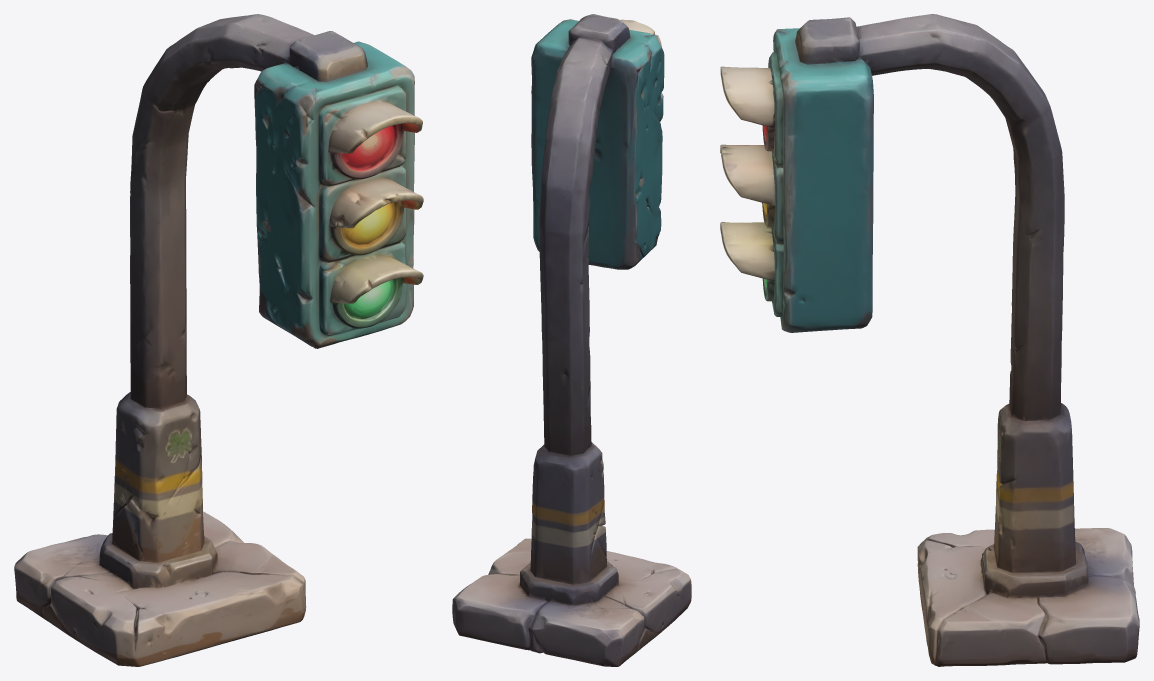
File: traffic_light.glb
The picture shows the model from 3 angles, left to right: view 1: azimuth 30°, elevation 25°; view 2: azimuth 150°, elevation 25°; view 3: azimuth 270°, elevation 25°; orthographic projection. The views are drawn at different scales.
Visible parts, largest first — view 1: tripo_part_1, tripo_part_3, tripo_part_0, tripo_part_2, tripo_part_5, tripo_part_4, tripo_part_8, tripo_part_6, tripo_part_7; view 2: tripo_part_3, tripo_part_1, tripo_part_0, tripo_part_2, tripo_part_8; view 3: tripo_part_1, tripo_part_3, tripo_part_0, tripo_part_2, tripo_part_5, tripo_part_8, tripo_part_4, tripo_part_6.
Boxes of the visible parts, x1=… form: tripo_part_1: x1=254, y1=41, x2=414, y2=348; tripo_part_3: x1=130, y1=14, x2=313, y2=408; tripo_part_0: x1=14, y1=511, x2=306, y2=666; tripo_part_2: x1=98, y1=392, x2=218, y2=588; tripo_part_5: x1=328, y1=101, x2=422, y2=179; tripo_part_4: x1=330, y1=255, x2=423, y2=328; tripo_part_8: x1=285, y1=31, x2=367, y2=81; tripo_part_6: x1=329, y1=178, x2=423, y2=229; tripo_part_7: x1=330, y1=201, x2=403, y2=257; tripo_part_3: x1=539, y1=37, x2=613, y2=455; tripo_part_1: x1=531, y1=19, x2=664, y2=269; tripo_part_0: x1=452, y1=538, x2=691, y2=666; tripo_part_2: x1=516, y1=442, x2=618, y2=607; tripo_part_8: x1=568, y1=14, x2=630, y2=53; tripo_part_1: x1=762, y1=28, x2=873, y2=332; tripo_part_3: x1=858, y1=14, x2=1064, y2=420; tripo_part_0: x1=917, y1=528, x2=1139, y2=666; tripo_part_2: x1=980, y1=403, x2=1095, y2=600; tripo_part_5: x1=720, y1=66, x2=774, y2=153; tripo_part_8: x1=795, y1=17, x2=864, y2=64; tripo_part_4: x1=720, y1=222, x2=775, y2=301; tripo_part_6: x1=720, y1=144, x2=775, y2=205.
Bounding box in the file's own units: 0.3939 × 0.9812 × 0.5971.
Materials: 1 (1 with a texture image).
